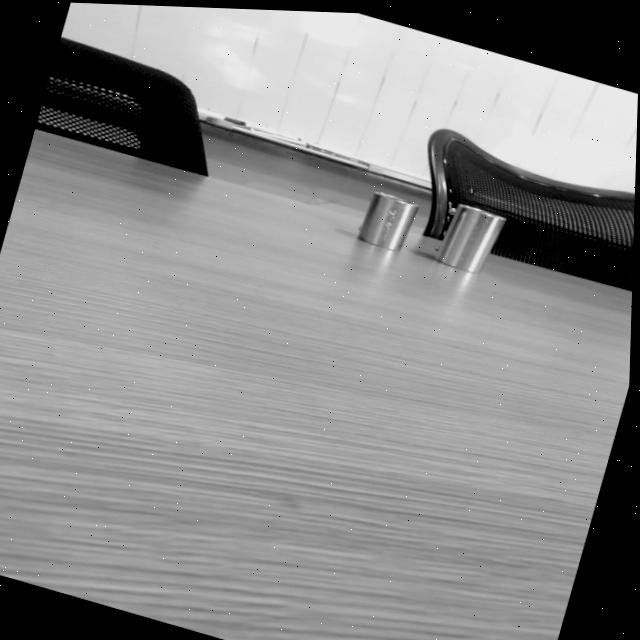Co_Lon: (428, 196, 505, 278)
Co_Nho: (356, 189, 419, 255)
